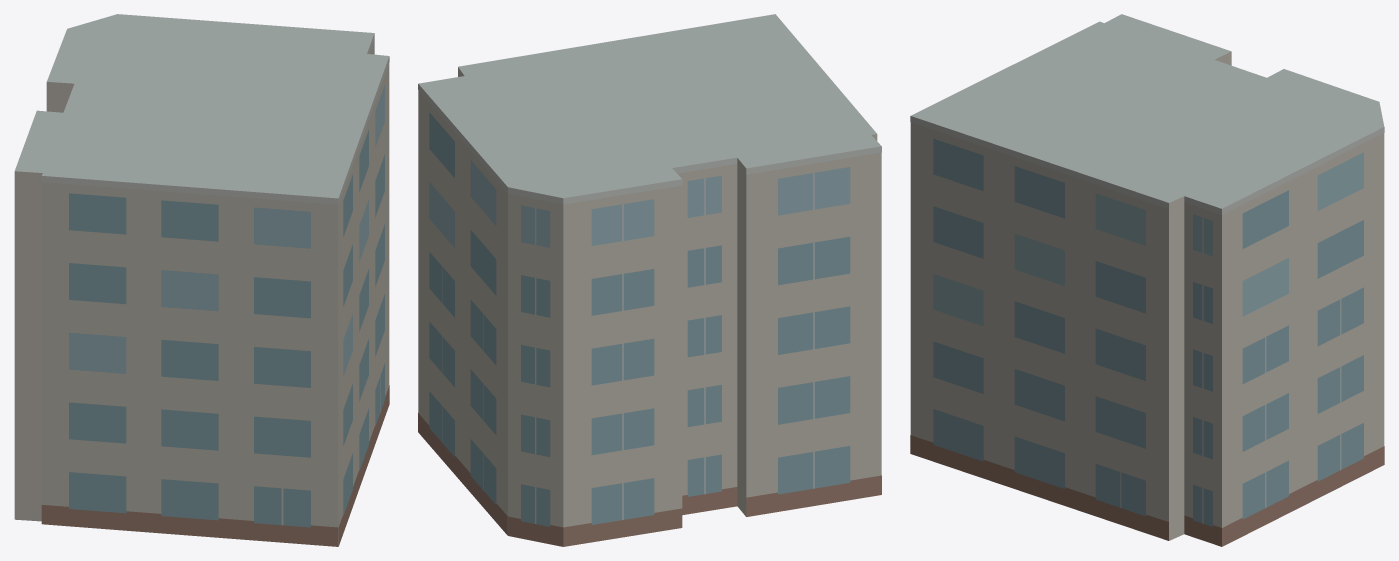
The model's file is survey-upis-32663534.glb.
3 views of the same model, side by side, from view 1: azimuth 30°, elevation 25°; view 2: azimuth 150°, elevation 25°; view 3: azimuth 270°, elevation 25° (orthographic). The views are drawn at different scales.
Parts seen in each view (by area): view 1: survey-upis-32663534.tmp; view 2: survey-upis-32663534.tmp; view 3: survey-upis-32663534.tmp.
Boxes of the visible parts, x1,y1,x2,y2 form: survey-upis-32663534.tmp: (14, 14, 389, 546); survey-upis-32663534.tmp: (418, 14, 881, 546); survey-upis-32663534.tmp: (910, 14, 1384, 546).
Size of the model in its own units: 16.82 by 13.6 by 17.29.
